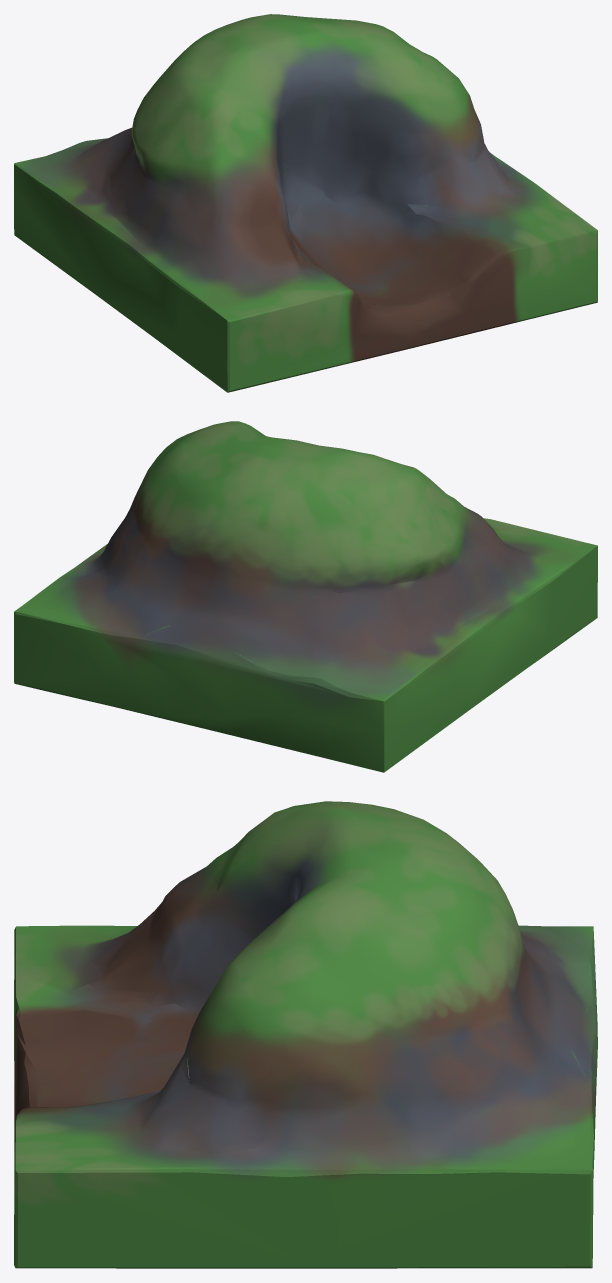
File: Cascada.fbx
The picture shows the model from 3 angles, top to bottom: view 1: azimuth 30°, elevation 25°; view 2: azimuth 150°, elevation 25°; view 3: azimuth 270°, elevation 25°; orthographic projection. The views are drawn at different scales.
Visible parts, largest first — view 1: Cascada; view 2: Cascada; view 3: Cascada.
Boxes of the visible parts, <box> form: Cascada: <box>14,14,597,392</box>; Cascada: <box>14,421,597,772</box>; Cascada: <box>14,801,597,1268</box>.
Size of the model in its own units: 201 by 116 by 202.
